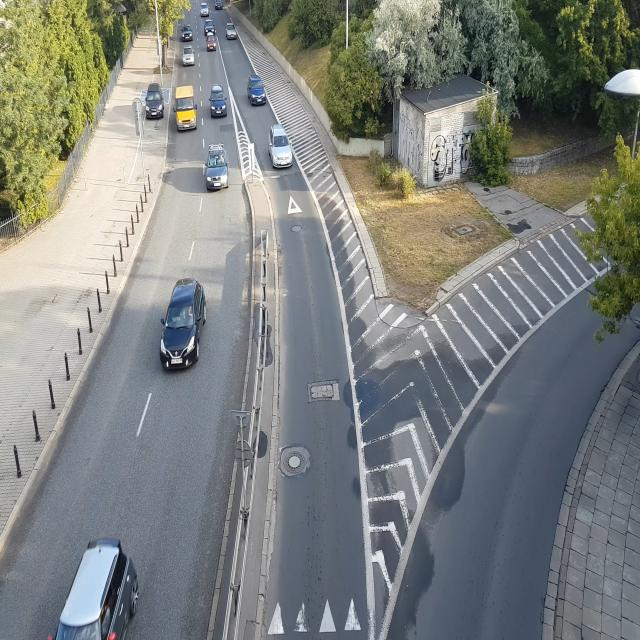car: (52, 527, 141, 640), (160, 270, 207, 370), (265, 120, 296, 173), (204, 137, 230, 192), (174, 81, 198, 134), (244, 68, 269, 112), (207, 79, 230, 120), (144, 81, 165, 121), (182, 42, 195, 66), (225, 20, 238, 41), (182, 22, 193, 41), (206, 34, 217, 52), (204, 18, 215, 34), (200, 3, 210, 17), (213, 0, 224, 11)
